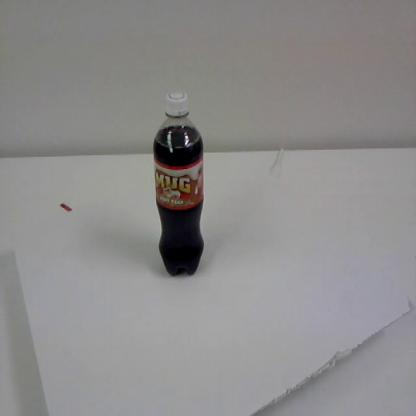bottle: (150, 91, 207, 281)
